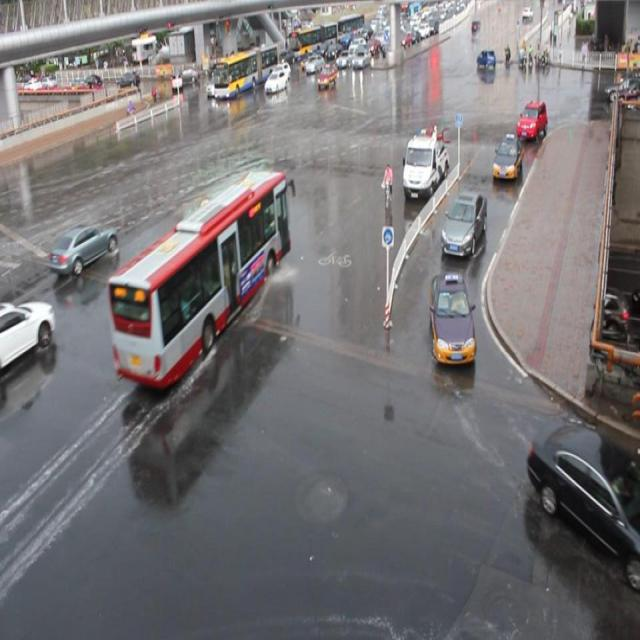bus: (401, 126, 448, 199)
car: (524, 412, 640, 574), (428, 271, 476, 363), (1, 298, 55, 374), (49, 223, 118, 274), (440, 190, 487, 256), (490, 132, 522, 180), (515, 100, 546, 139), (264, 70, 287, 95), (205, 74, 225, 97)
van: (107, 168, 291, 387), (212, 42, 278, 99)
